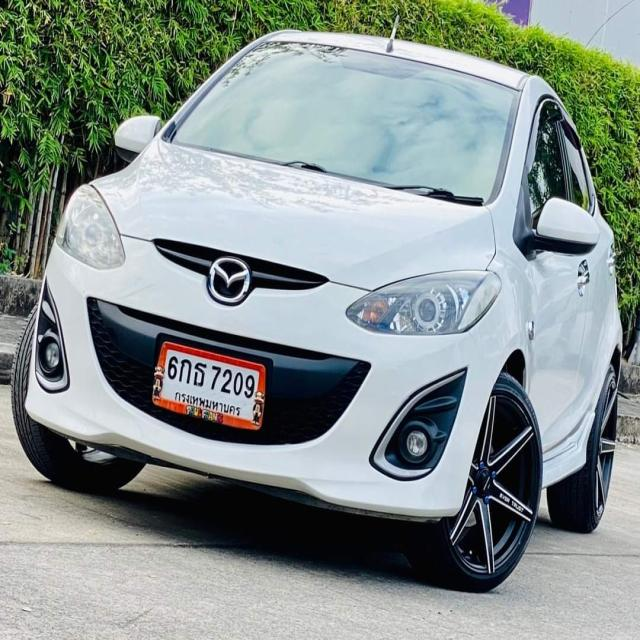license_plate: (150, 331, 268, 433)
